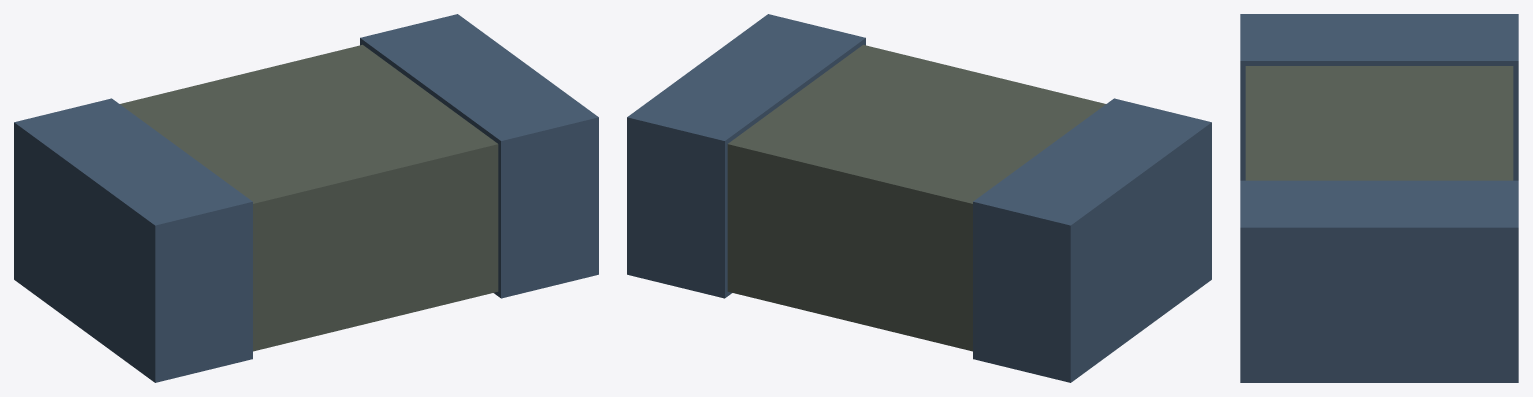
The picture shows the model from 3 angles, left to right: view 1: azimuth 30°, elevation 25°; view 2: azimuth 150°, elevation 25°; view 3: azimuth 270°, elevation 25°; orthographic projection.
Visible parts, largest first — view 1: 065_L103_C16; view 2: 065_L103_C16; view 3: 065_L103_C16.
Boxes of the visible parts, x1,y1,x2,y2 form: 065_L103_C16: (14,14,598,382); 065_L103_C16: (627,14,1211,382); 065_L103_C16: (1240,14,1518,382).
Bounding box in the file's own units: 0.236 × 0.08 × 0.13.
